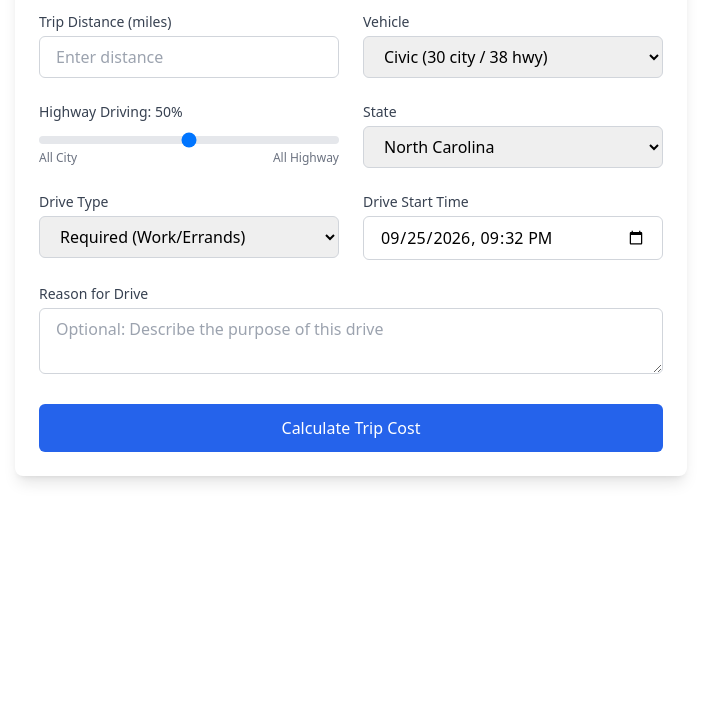
Scenario: Calculator › submits trip data and displays the result
Expected: the dropdown labelled "Vehicle" shows "Civic (30 city / 38 hwy)", [363, 36, 663, 78]
Type "100" into the number field labelled "Trip Distance (miles)". click: (189, 57)
box: [39, 36, 339, 78]
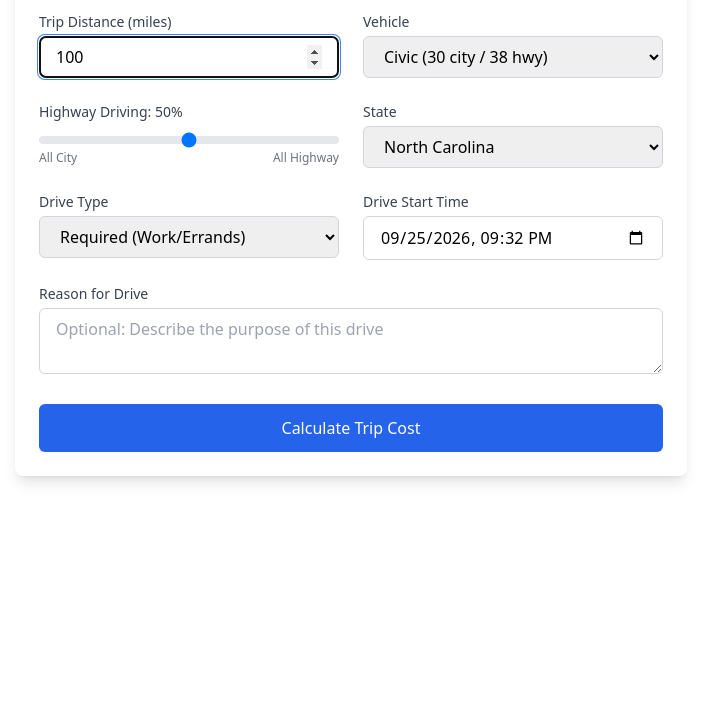
Click the button "Calculate Trip Cost". click: click(351, 428)
box: [39, 404, 663, 452]
(page scrolled)
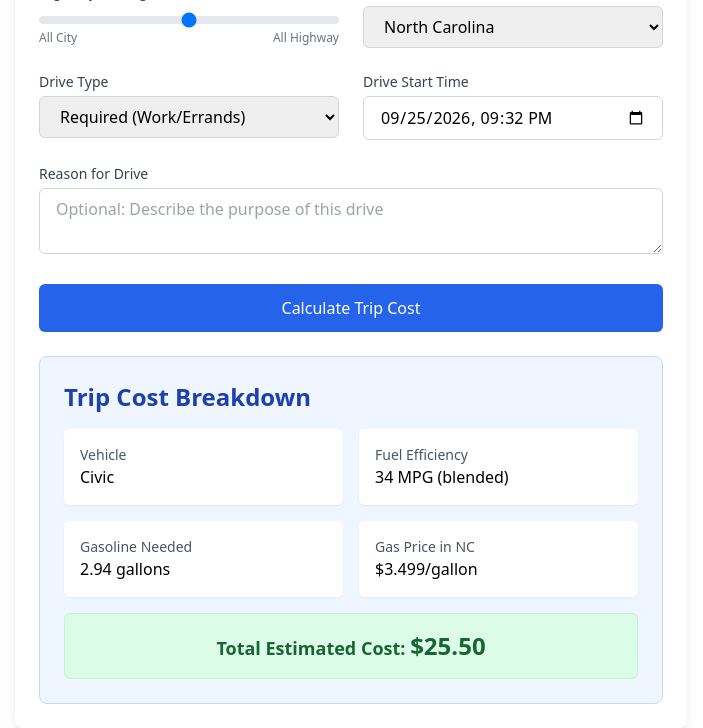
Now the heading "Trip Cost Breakdown" is shown, box [64, 380, 311, 413]
Now the text "Civic" is shown, box [80, 466, 114, 488]
Now the text "$25.50" is shown, box [410, 629, 486, 662]
